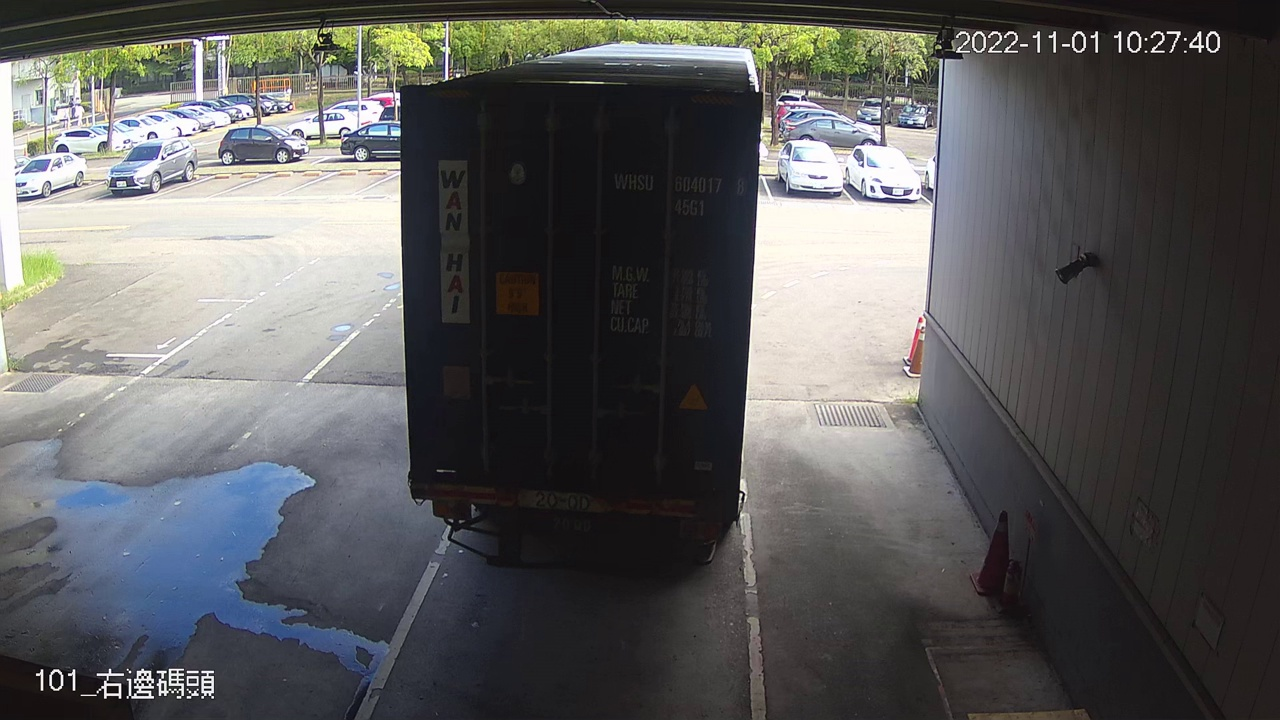container: (606, 163, 750, 223)
